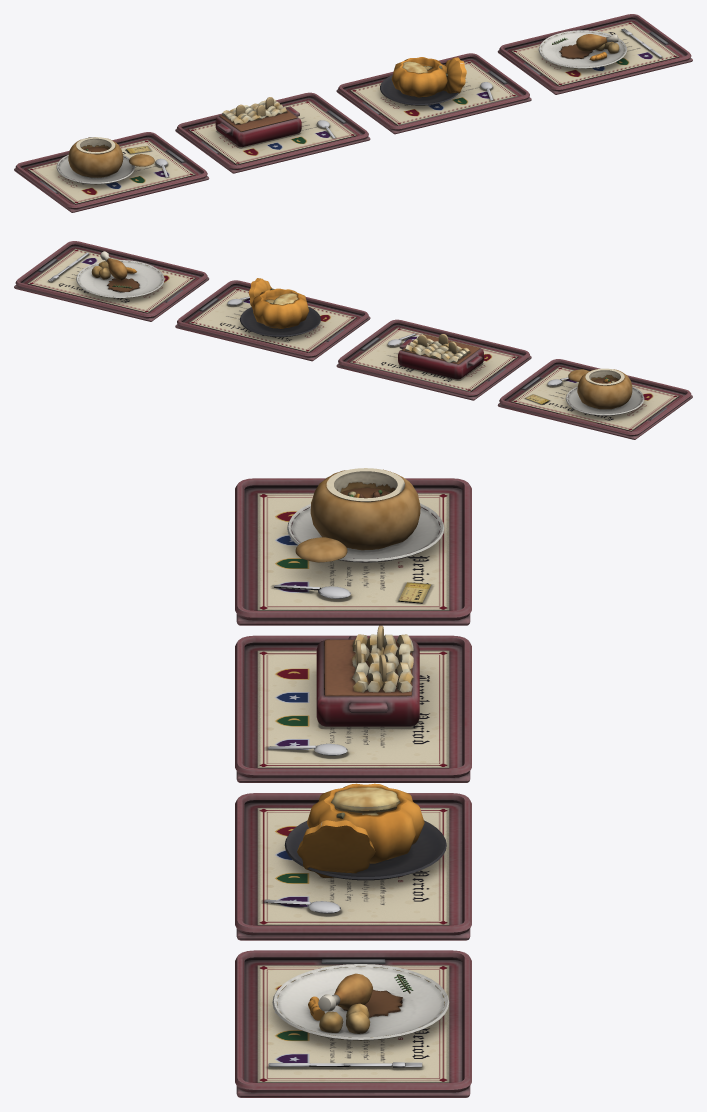
The model's file is ConcessionLunchHouse2.fbx.
3 renders of one model, top to bottom at view 1: azimuth 30°, elevation 25°; view 2: azimuth 150°, elevation 25°; view 3: azimuth 270°, elevation 25°, orthographic. The views are drawn at different scales.
Visible parts, largest first — view 1: ConcessionLunchHouse2_PumpkinGratin, ConcessionLunchHouse2_WitchingStew, ConcessionLunchHouse2_ShepherdsPie, ConcessionLunchHouse2_RavensRoast; view 2: ConcessionLunchHouse2_PumpkinGratin, ConcessionLunchHouse2_WitchingStew, ConcessionLunchHouse2_ShepherdsPie, ConcessionLunchHouse2_RavensRoast; view 3: ConcessionLunchHouse2_WitchingStew, ConcessionLunchHouse2_PumpkinGratin, ConcessionLunchHouse2_ShepherdsPie, ConcessionLunchHouse2_RavensRoast.
Part boxes in pixels (bbox=[...]): ConcessionLunchHouse2_PumpkinGratin: bbox=[336, 53, 531, 134]; ConcessionLunchHouse2_WitchingStew: bbox=[14, 132, 209, 212]; ConcessionLunchHouse2_ShepherdsPie: bbox=[175, 92, 370, 173]; ConcessionLunchHouse2_RavensRoast: bbox=[497, 14, 692, 94]; ConcessionLunchHouse2_PumpkinGratin: bbox=[175, 278, 370, 361]; ConcessionLunchHouse2_WitchingStew: bbox=[497, 359, 692, 439]; ConcessionLunchHouse2_ShepherdsPie: bbox=[336, 319, 531, 400]; ConcessionLunchHouse2_RavensRoast: bbox=[14, 241, 209, 321]; ConcessionLunchHouse2_WitchingStew: bbox=[235, 468, 471, 625]; ConcessionLunchHouse2_PumpkinGratin: bbox=[235, 783, 471, 940]; ConcessionLunchHouse2_ShepherdsPie: bbox=[235, 625, 471, 782]; ConcessionLunchHouse2_RavensRoast: bbox=[235, 950, 471, 1097].
Size of the model in its own units: 586 by 32.29 by 96.58.
